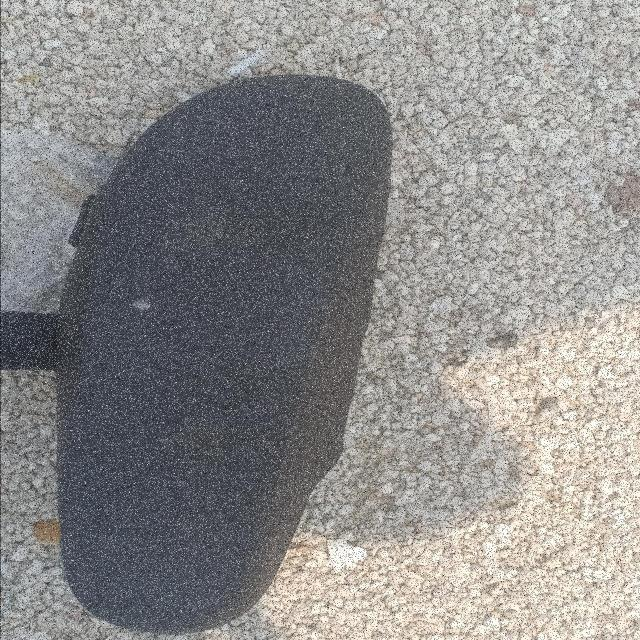rubber_waste: (54, 74, 394, 639)
